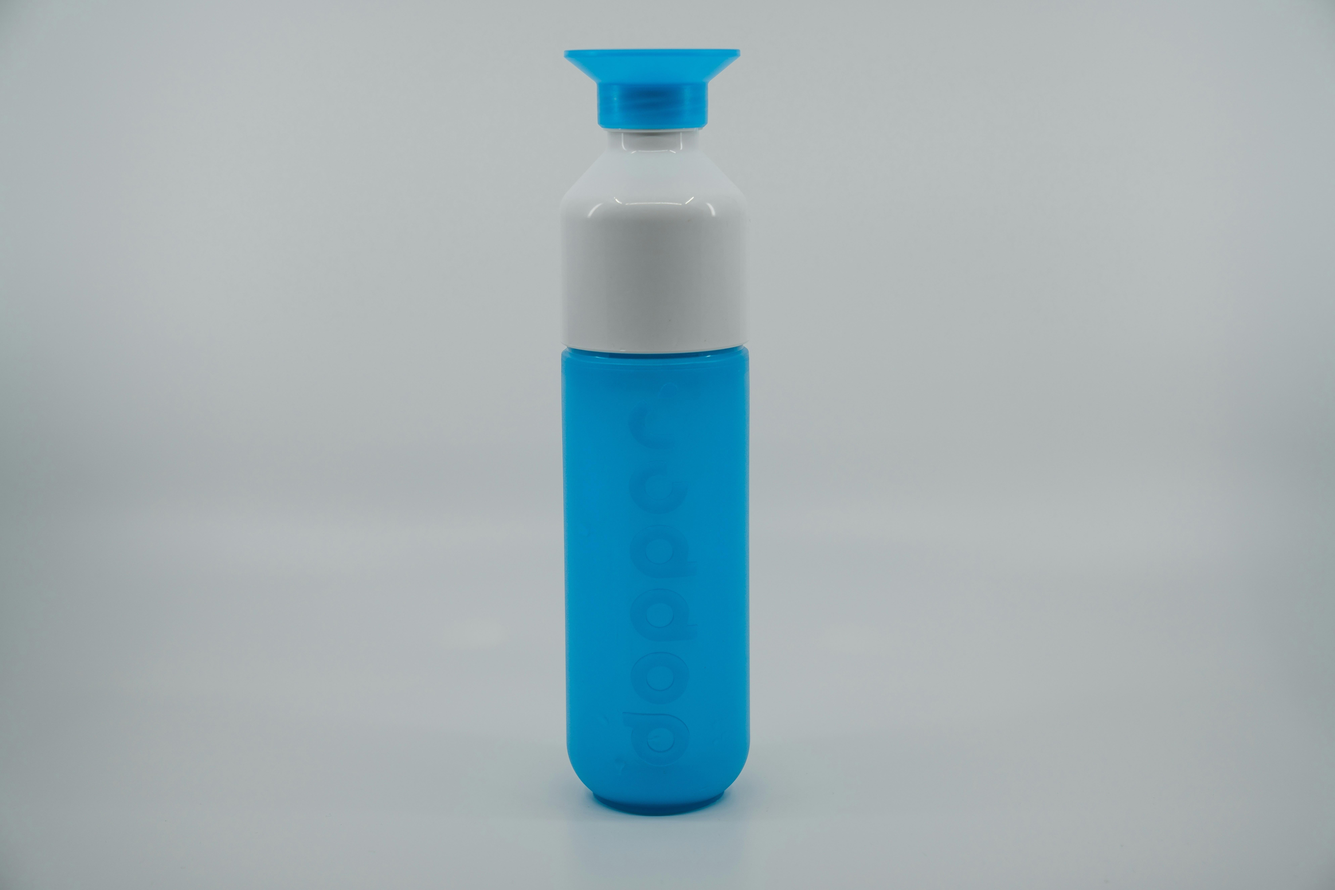Bottle-Detection: (468, 18, 855, 856)
